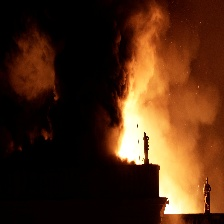fire: (123, 108, 148, 165)
smoke: (1, 2, 145, 162), (157, 17, 220, 195)
